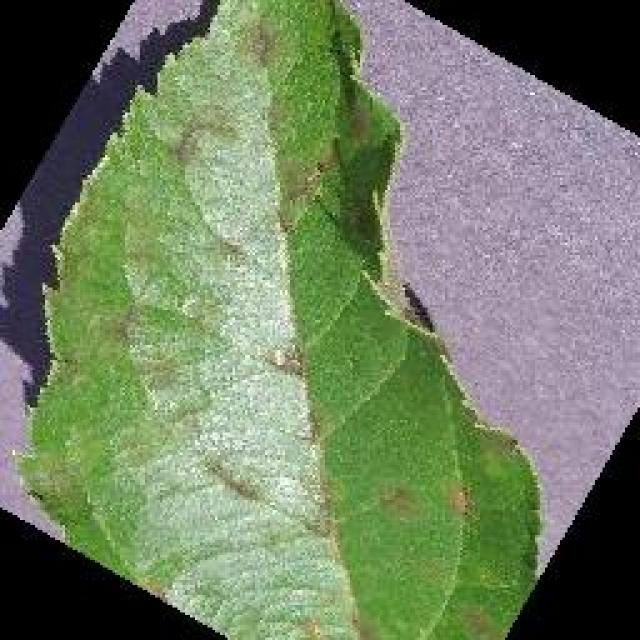apple scab disease: (13, 0, 545, 638)
